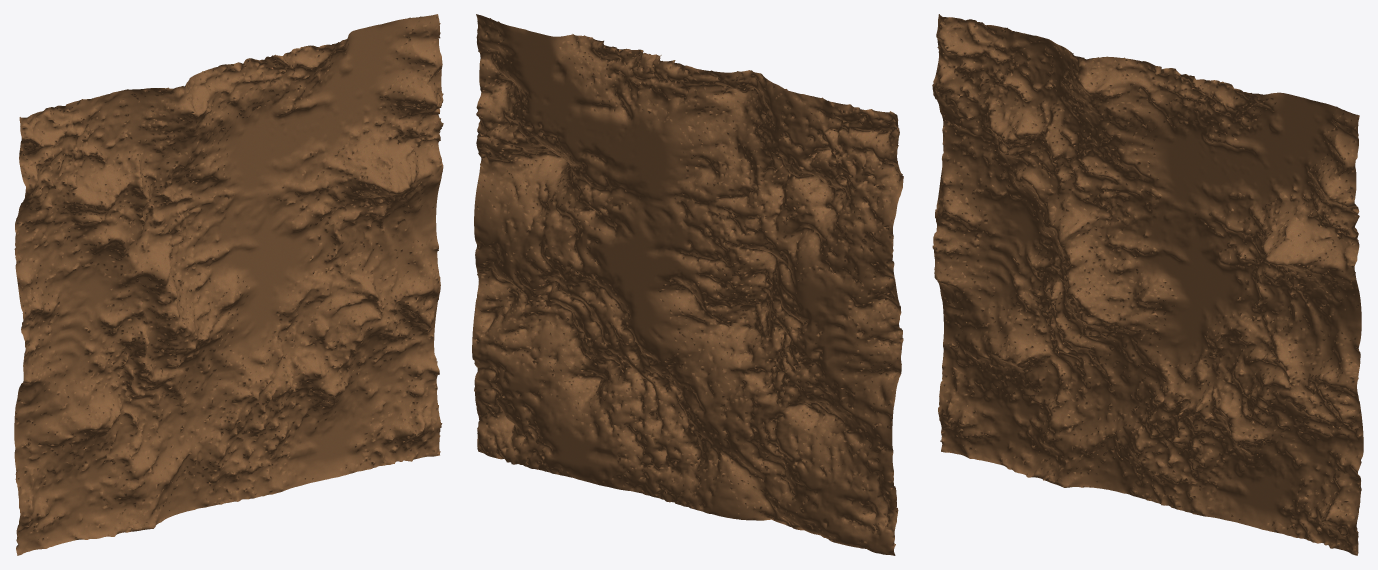
Rendered from death_valley_visual.obj.
The picture shows the model from 3 angles, left to right: view 1: azimuth 30°, elevation 25°; view 2: azimuth 150°, elevation 25°; view 3: azimuth 330°, elevation 25°; orthographic projection.
Bounding box in the file's own units: 150 × 150 × 18.45.
Materials: 1 (1 with a texture image).
